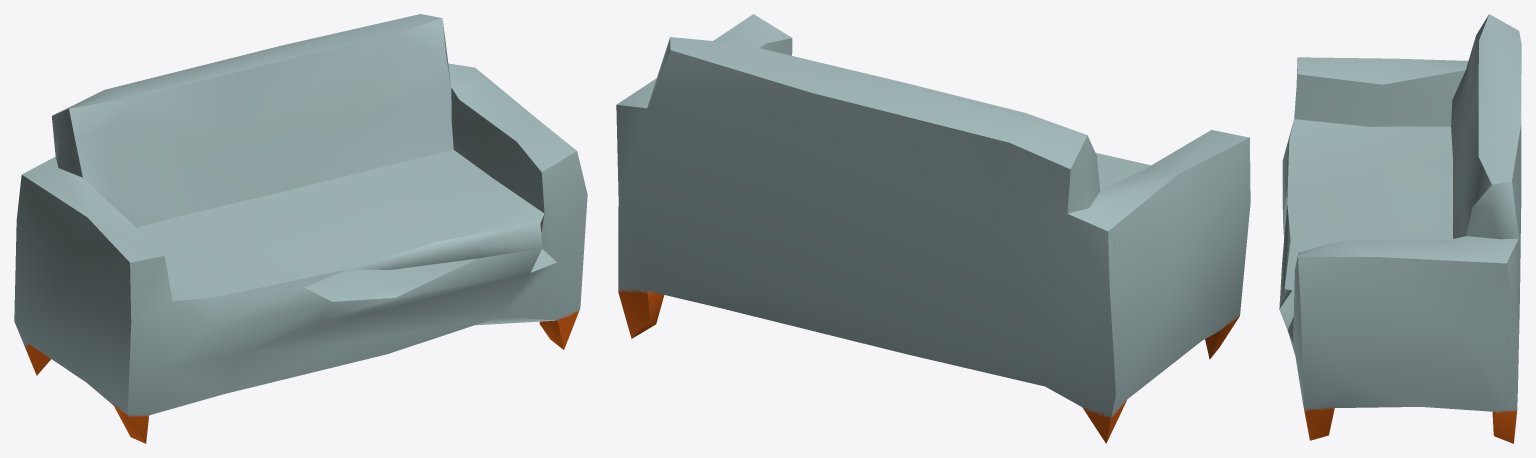
File: pouta-sofa.glb
The picture shows the model from 3 angles, left to right: view 1: azimuth 30°, elevation 25°; view 2: azimuth 150°, elevation 25°; view 3: azimuth 270°, elevation 25°; orthographic projection. The views are drawn at different scales.
Visible parts, largest first — view 1: geometry_0; view 2: geometry_0; view 3: geometry_0.
Part boxes in pixels (x1=…): geometry_0: x1=14, y1=14, x2=587, y2=443; geometry_0: x1=616, y1=14, x2=1250, y2=443; geometry_0: x1=1279, y1=14, x2=1521, y2=443.
Bounding box in the file's own units: 1 × 0.5634 × 0.491.
Materials: 1 (1 with a texture image).
